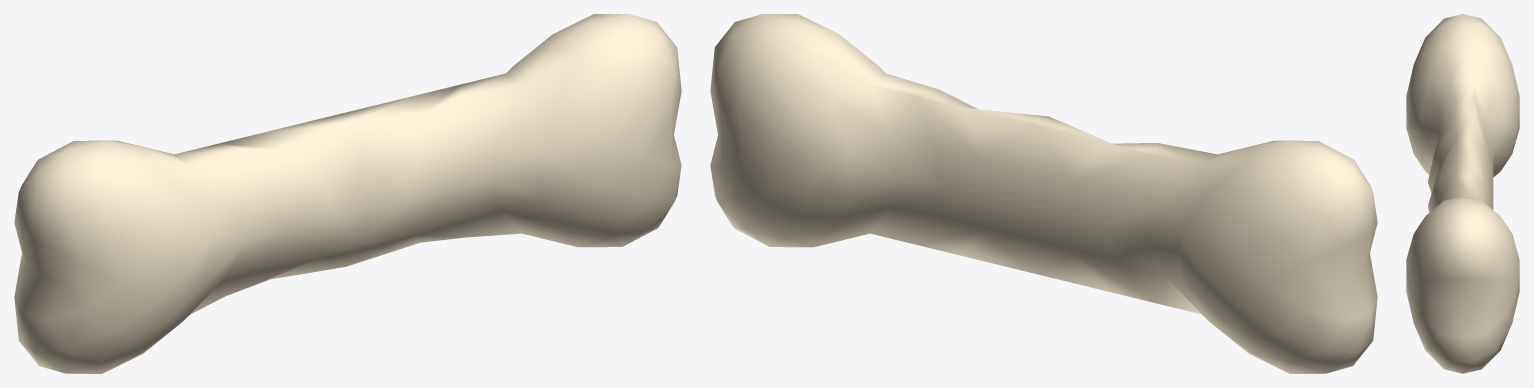
The model's file is bone-by-poly-by-google-5x7GOmvt0Tk.glb.
3 renders of one model, left to right at view 1: azimuth 30°, elevation 25°; view 2: azimuth 150°, elevation 25°; view 3: azimuth 270°, elevation 25°, orthographic. The views are drawn at different scales.
Visible parts, largest first — view 1: Symmetry.1; view 2: Symmetry.1; view 3: Symmetry.1.
Part boxes in pixels (bbox=[...]): Symmetry.1: bbox=[14, 14, 681, 373]; Symmetry.1: bbox=[710, 14, 1377, 373]; Symmetry.1: bbox=[1406, 14, 1519, 373].
Bounding box in the file's own units: 224 × 72.98 × 46.44.
